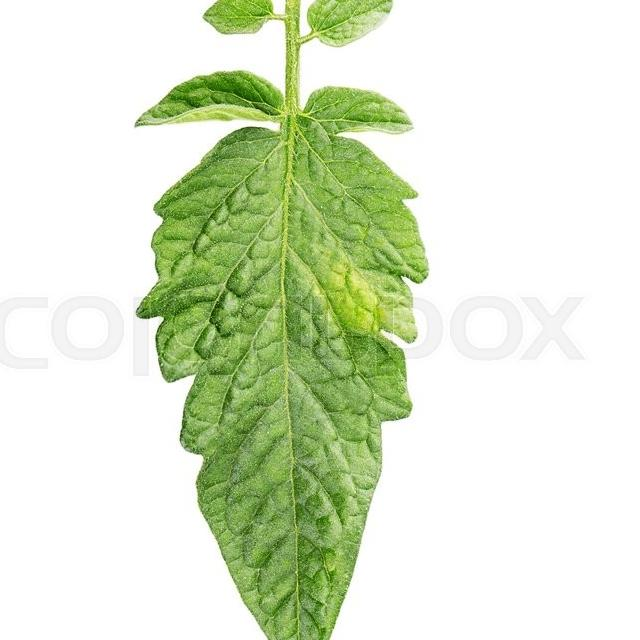Tomato leaf: (144, 0, 419, 640)
